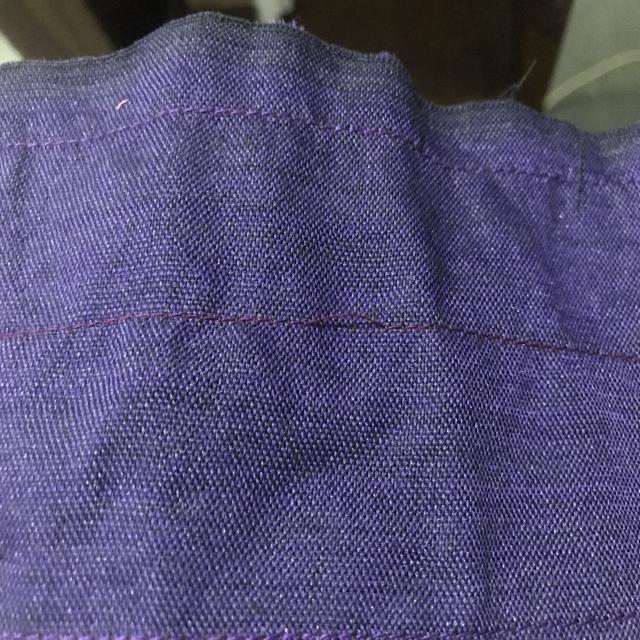good: (126, 299, 216, 341)
skip: (300, 291, 408, 360)
